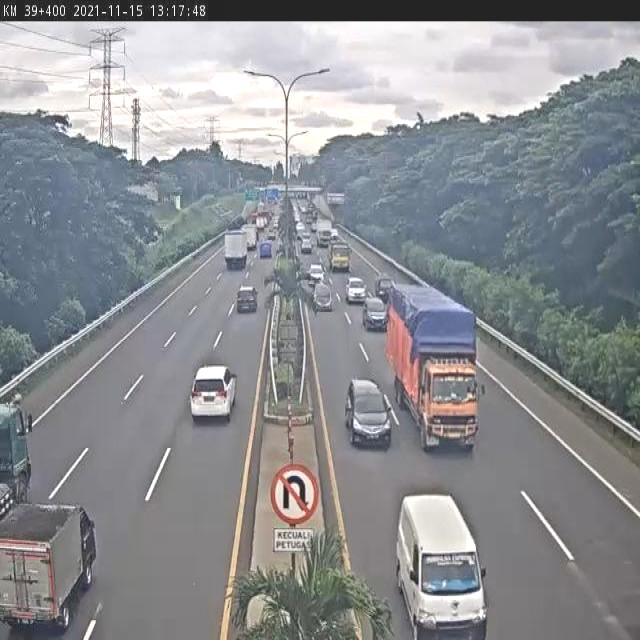Car: (345, 376, 393, 449), (190, 364, 238, 421), (361, 295, 387, 331), (312, 281, 334, 312), (236, 285, 258, 314), (345, 277, 366, 304), (308, 264, 324, 284), (300, 238, 313, 254), (296, 222, 304, 238), (299, 204, 308, 218), (311, 220, 318, 233), (312, 211, 318, 224)
Truck: (386, 283, 480, 451), (0, 497, 94, 635), (224, 230, 248, 270), (329, 240, 350, 272), (316, 218, 332, 247)
Van: (395, 494, 487, 638)
